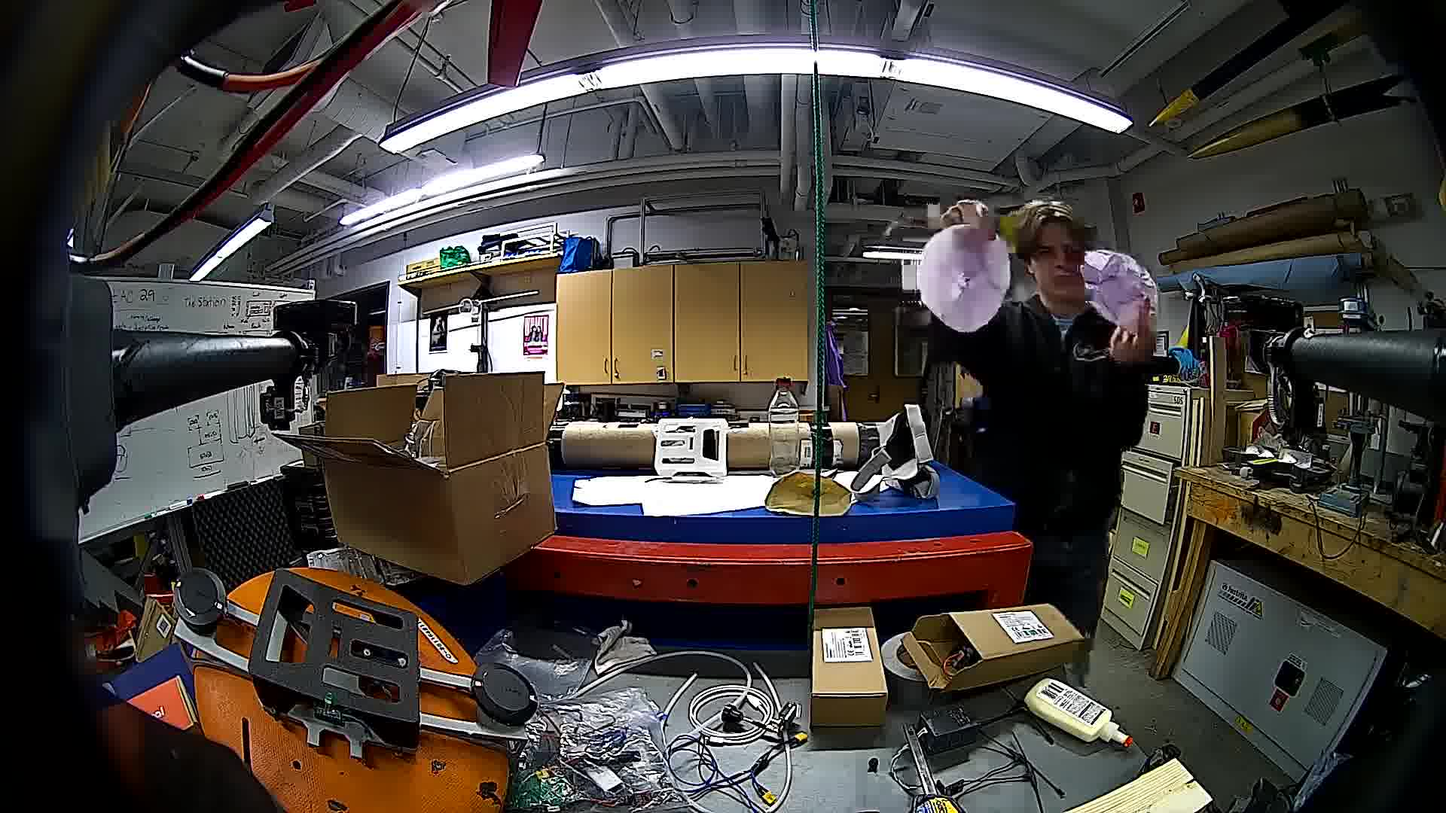Target: (919, 216, 1015, 337)
